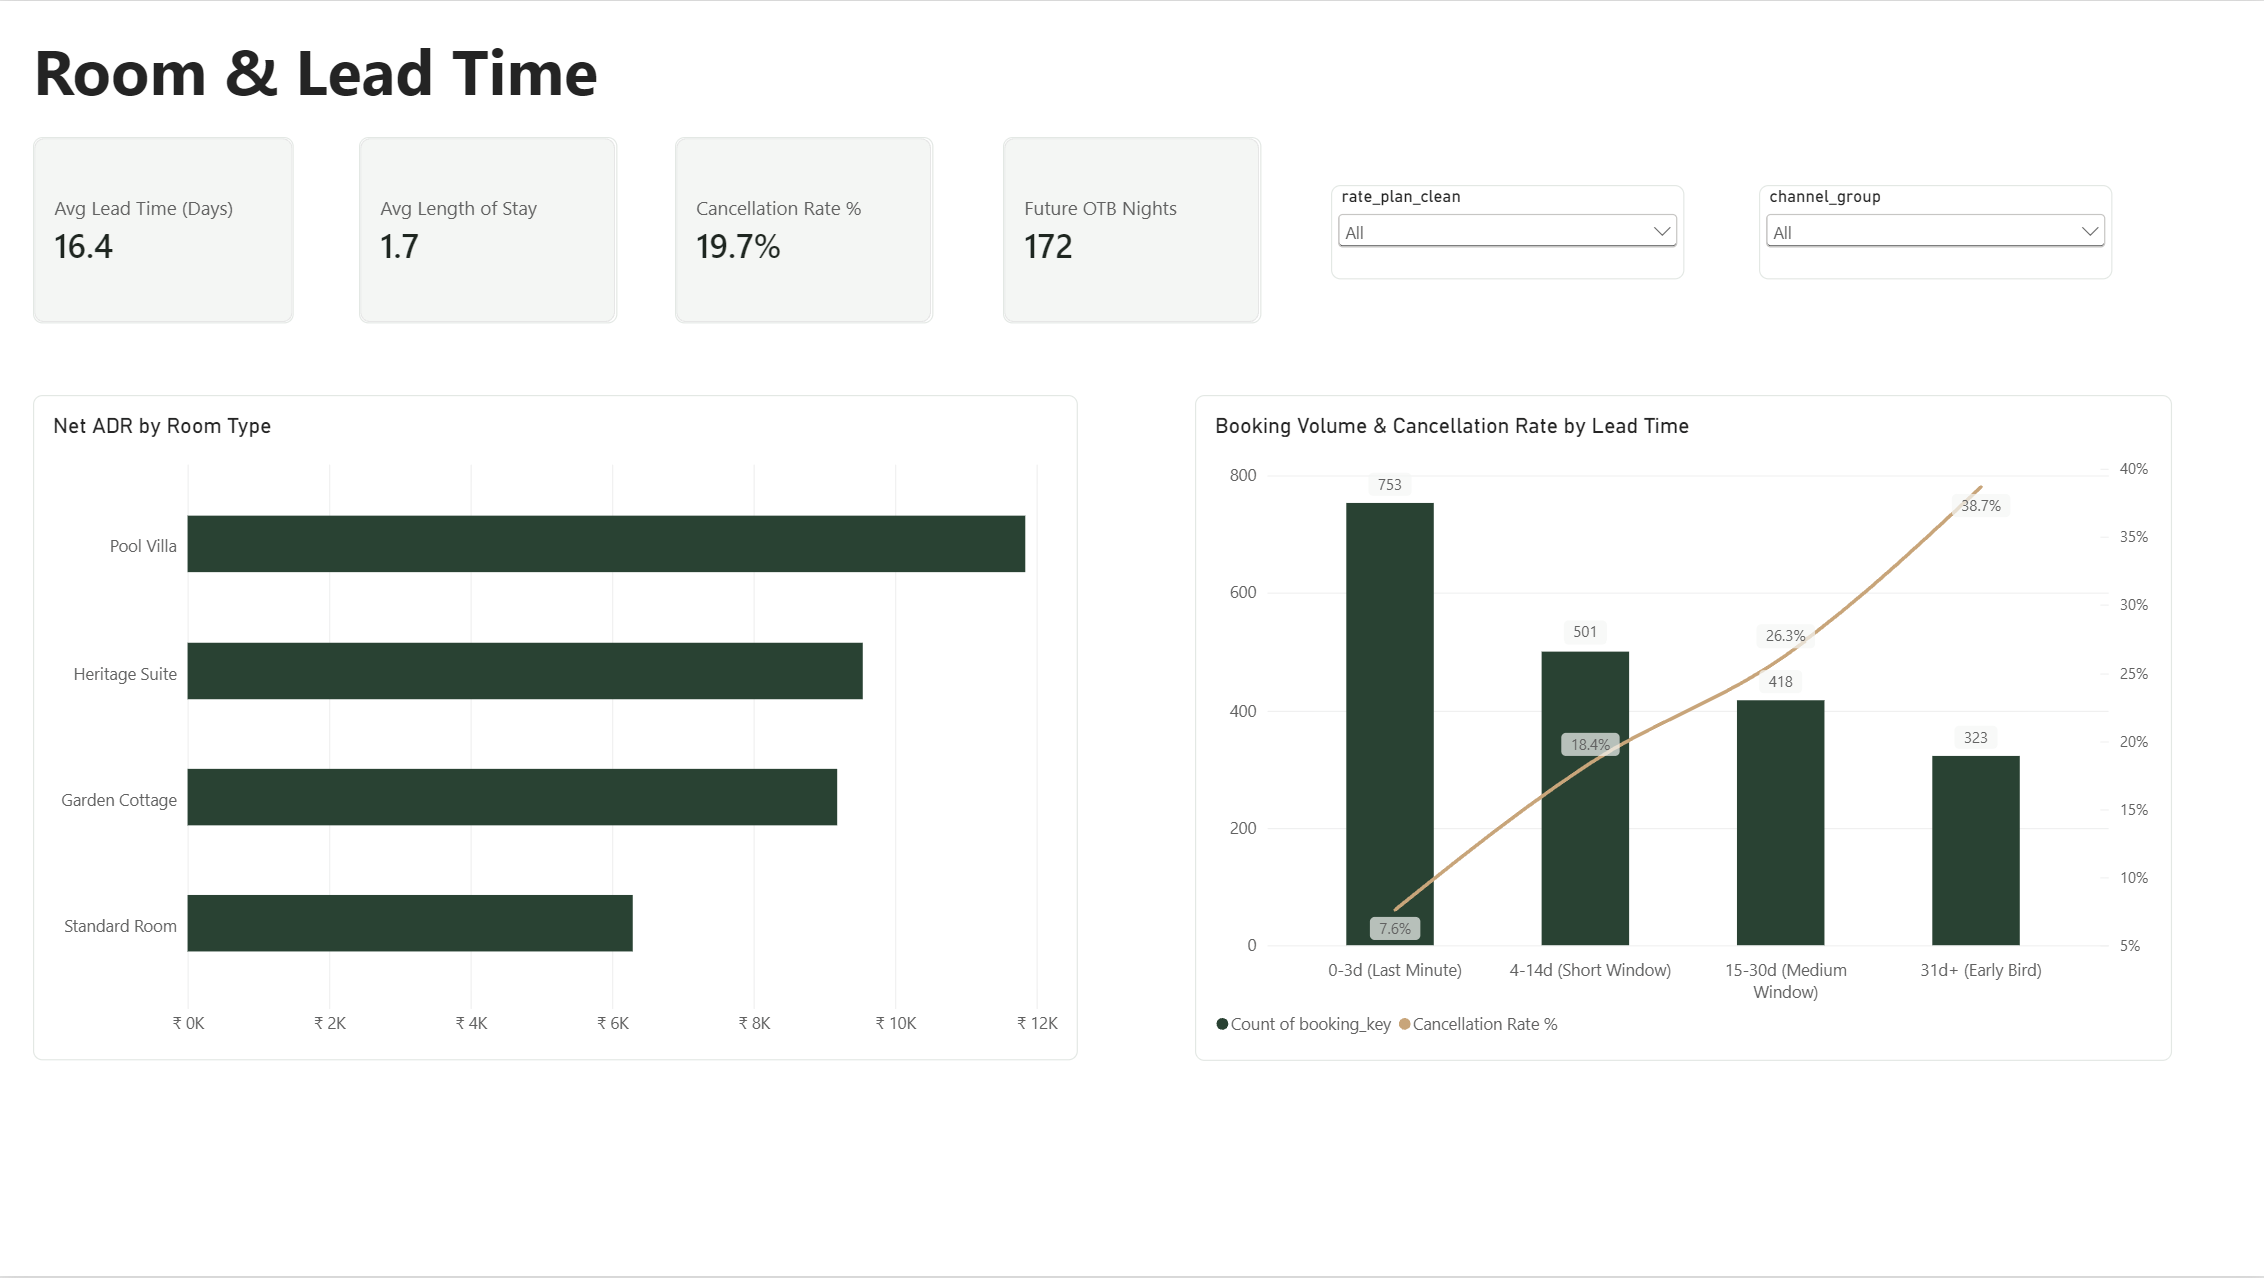

The dashboard page shown, as its layout file describes it:
{"tool":"powerbi","page":{"name":"Room & Lead Time","canvas":[1920,1080],"ordinal":2},"visuals":[{"type":"cardVisual","fields":{"Data":["_Measures.Avg Lead Time (Days)"]},"box":[28.2,114.9,221,158.2],"z":0},{"type":"cardVisual","fields":{"Data":["_Measures.Avg Length of Stay"]},"box":[305.6,114.9,218.9,158.2],"z":1000},{"type":"cardVisual","fields":{"Data":["_Measures.Cancellation Rate %"]},"box":[572.1,114.9,218.9,158.2],"z":2000},{"type":"cardVisual","fields":{"Data":["_Measures.Future OTB Nights"]},"box":[851.6,114.9,218.9,158.2],"z":3000},{"type":"clusteredBarChart","title":"Net ADR by Room Type","fields":{"Category":["fct_daily_room_performance.room_type"],"Y":["_Measures.Room Type Net ADR"]},"box":[29,334.4,885.5,563],"z":4000},{"type":"lineClusteredColumnComboChart","title":"Booking Volume & Cancellation Rate by Lead Time","fields":{"Category":["fct_booking_lifecycle.lead_time_bucket"],"Y":["Count(fct_booking_lifecycle.booking_key)"],"Y2":["_Measures.Cancellation Rate %"]},"box":[1013.5,334.4,827.8,563.4],"z":5000},{"type":"slicer","fields":{"Values":["fct_booking_lifecycle.rate_plan_clean"]},"box":[1128.5,155.1,299.5,80.2],"z":6000},{"type":"slicer","fields":{"Values":["dim_channel.channel_group"]},"box":[1492.1,155.1,299.5,80.2],"z":7000},{"type":"textbox","box":[29,22.2,559.6,71.7],"z":8000}]}

Visuals, with their boxes in screenshot pixels (x1, y1, x2, y2), scaled from the page's 1920x1080 canvas onto the 2264x1278 screenshot:
cardVisual - _Measures.Avg Lead Time (Days): bbox(33, 136, 294, 323)
cardVisual - _Measures.Avg Length of Stay: bbox(360, 136, 618, 323)
cardVisual - _Measures.Cancellation Rate %: bbox(675, 136, 933, 323)
cardVisual - _Measures.Future OTB Nights: bbox(1004, 136, 1262, 323)
"Net ADR by Room Type" clusteredBarChart: bbox(34, 396, 1078, 1062)
"Booking Volume & Cancellation Rate by Lead Time" lineClusteredColumnComboChart: bbox(1195, 396, 2171, 1062)
slicer - fct_booking_lifecycle.rate_plan_clean: bbox(1331, 184, 1684, 278)
slicer - dim_channel.channel_group: bbox(1759, 184, 2113, 278)
textbox: bbox(34, 26, 694, 111)
